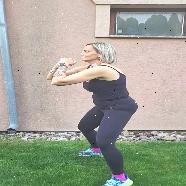squats: (47, 39, 148, 186)
